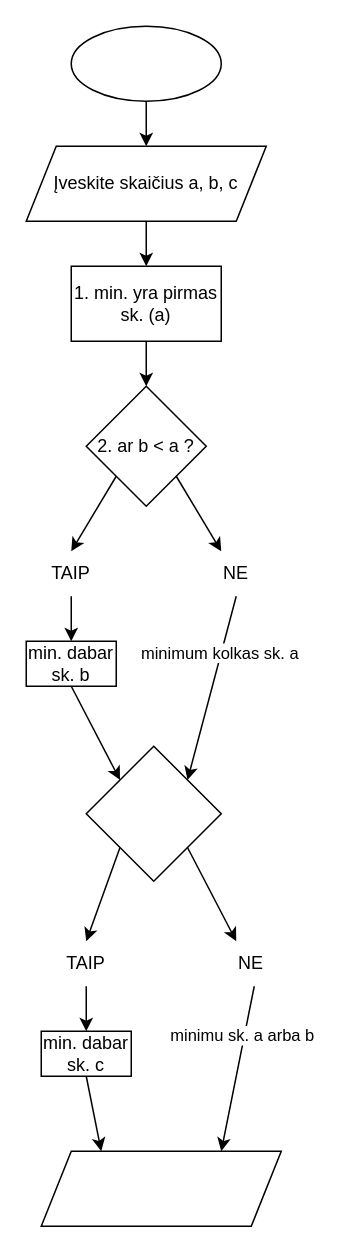
The diagram is 341 pixels wide and 1253 high, and some of its shapes have lost their labels. The centre of each missing label's shape, as x and y in pixels:
3. ar c < a,b ?: (153,813)
Išvedamas min. skaičius: (160,1188)
Pradžia: (145,63)
